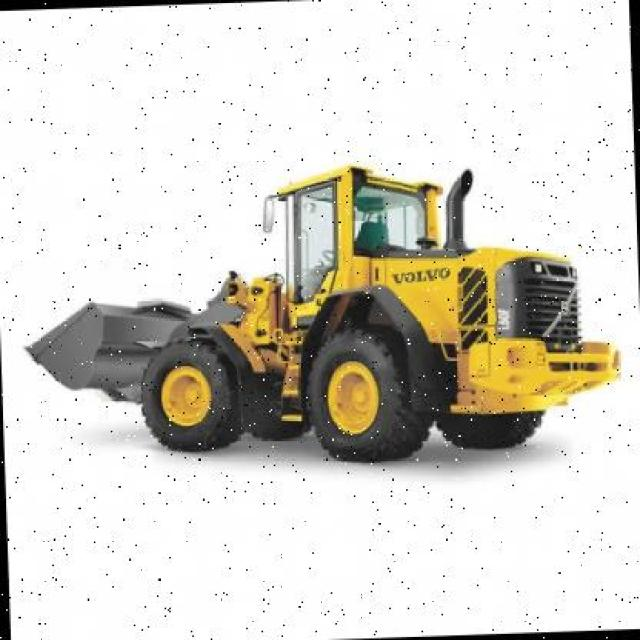buldozerpayloadergrader: (14, 157, 626, 474)
